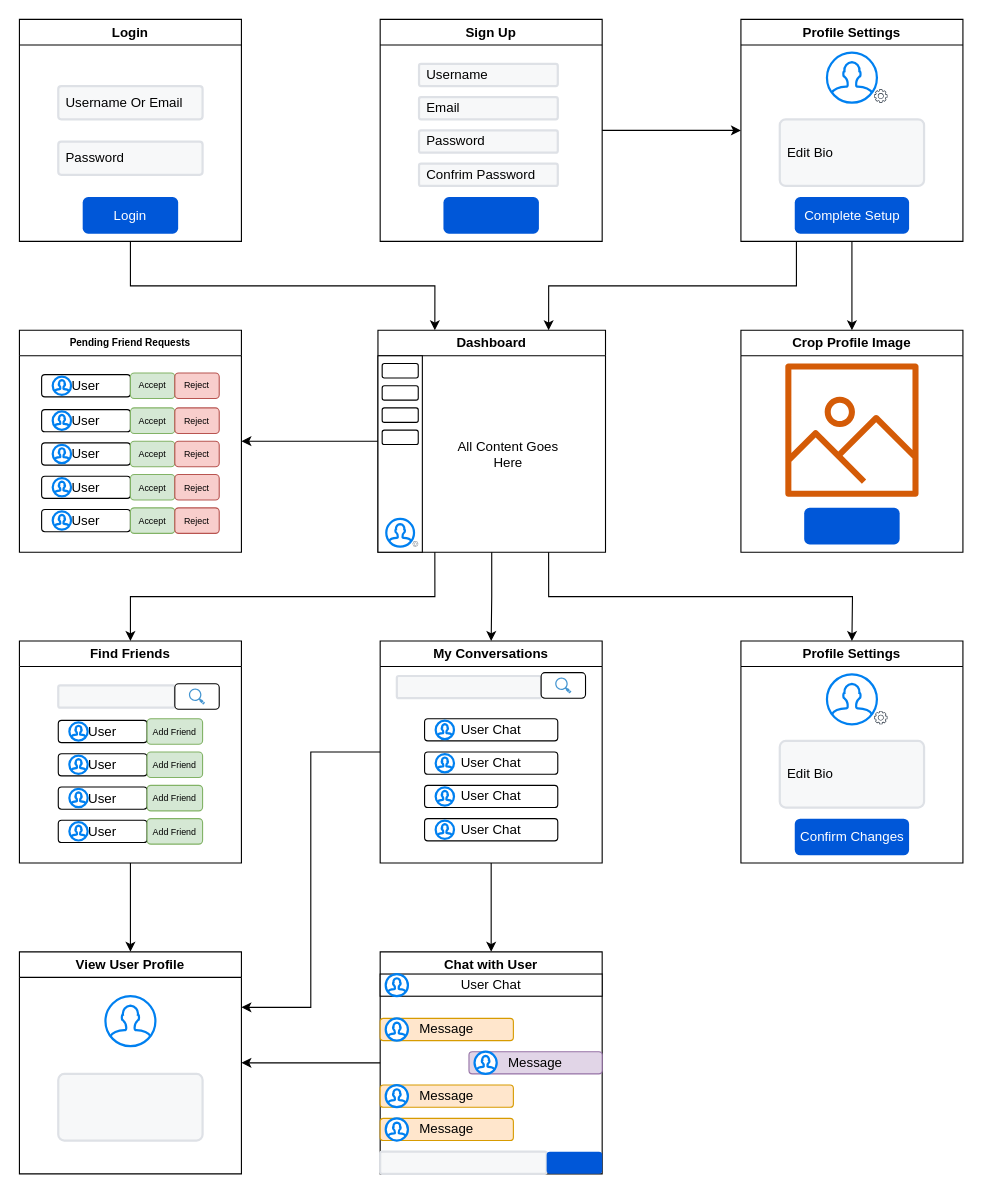
The diagram is 982 pixels wide and 1194 high, and some of its shapes have lost their labels. Each missing label, with the centre of its shape:
"Bio" goes at [130,1106].
"Confirm" goes at [851,525].
"Create Account" goes at [490,214].
"Search Conversations" goes at [468,686].
"Search Users" goes at [116,696].
"Send" goes at [574,1162].
"Type a message" goes at [463,1162].
